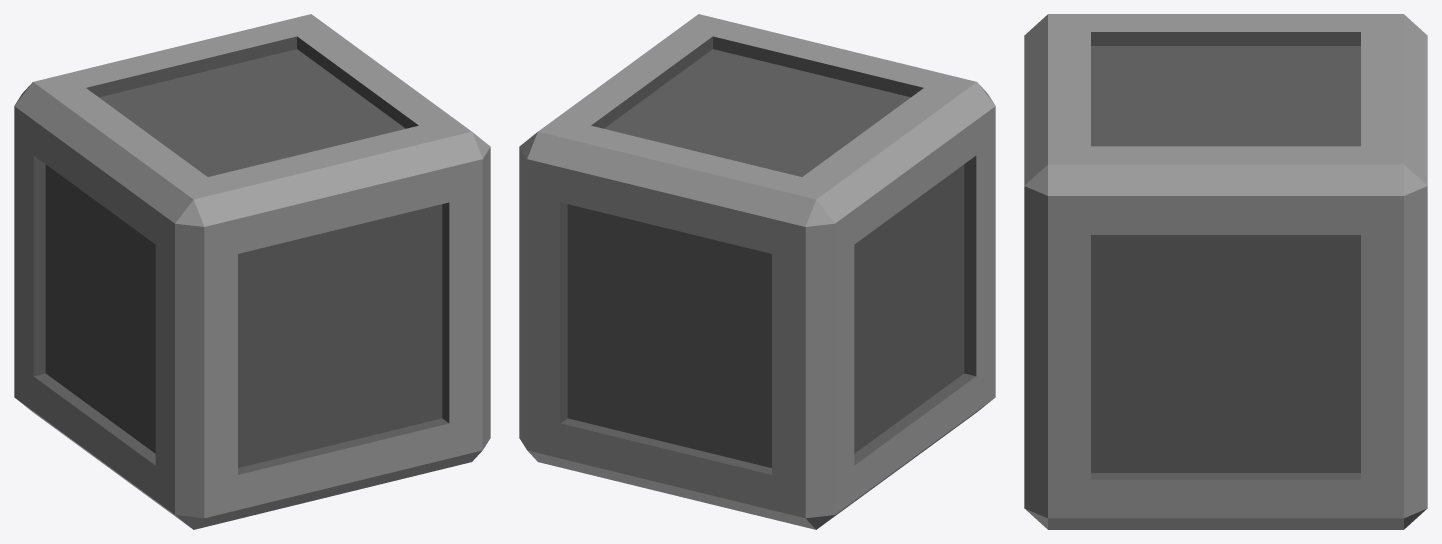
File: crate_B.FBX
3 renders of one model, left to right at view 1: azimuth 30°, elevation 25°; view 2: azimuth 150°, elevation 25°; view 3: azimuth 270°, elevation 25°, orthographic. The views are drawn at different scales.
Visible parts, largest first — view 1: crate_B; view 2: crate_B; view 3: crate_B.
Part boxes in pixels (x1,y1,x2,y2): crate_B: [14, 14, 490, 529]; crate_B: [519, 14, 995, 529]; crate_B: [1024, 14, 1427, 529].
Size of the model in its own units: 62.99 by 62.99 by 62.99.
